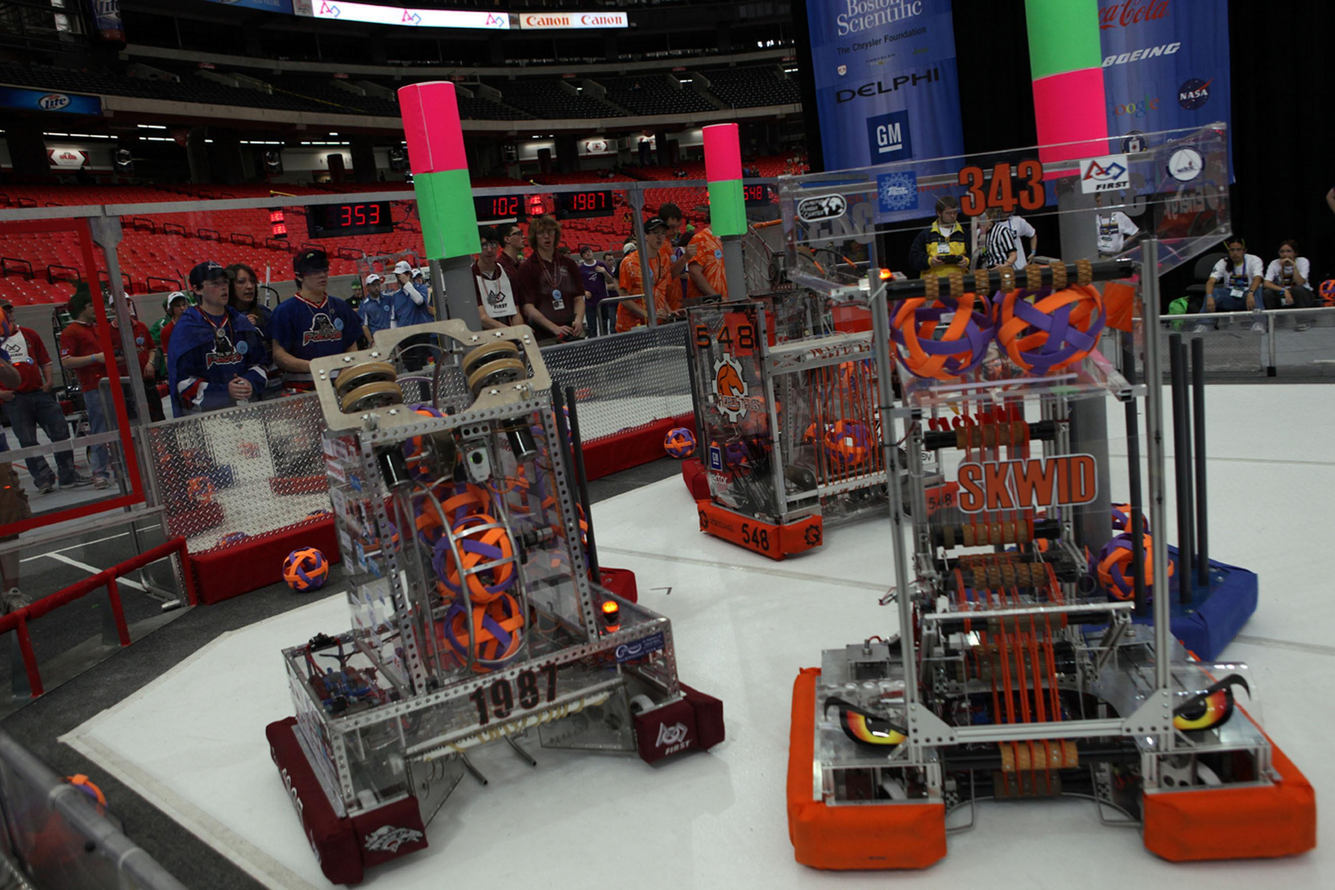robot: (786, 132, 1320, 878), (261, 274, 735, 889), (692, 215, 941, 570)
